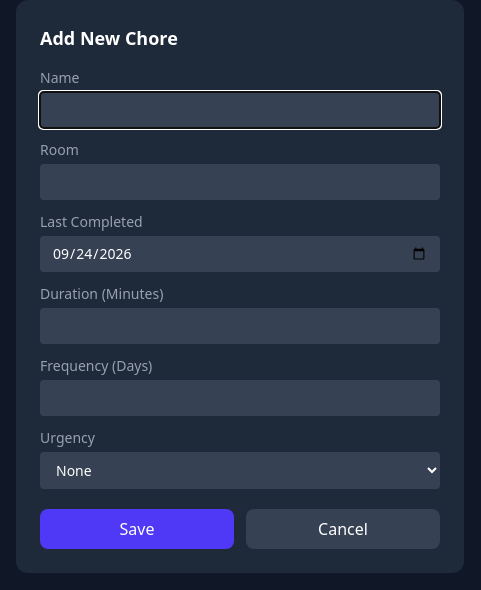
Test: ChoreForm clear-✕ (F14) › Name field shows a clear-✕ once typed and clears only Name on click
Type "Sweep" into the field labelled "Name" at [240, 110], box [40, 92, 440, 128]
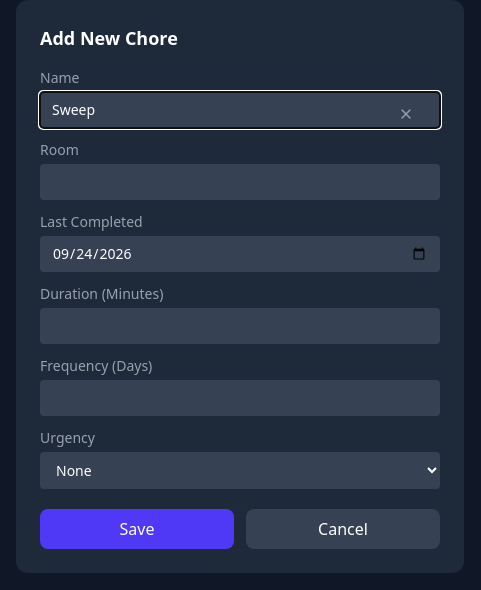
Type "Kitchen" into the field labelled "Room" at [240, 182], box [40, 164, 440, 200]
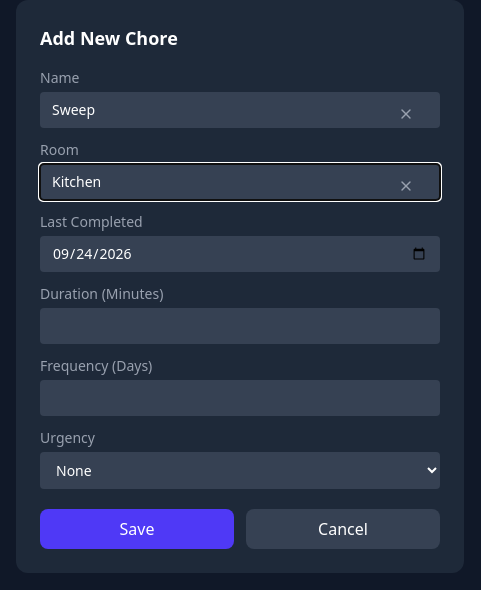
Click the button named "Clear Name" at [406, 114], box [384, 92, 428, 136]
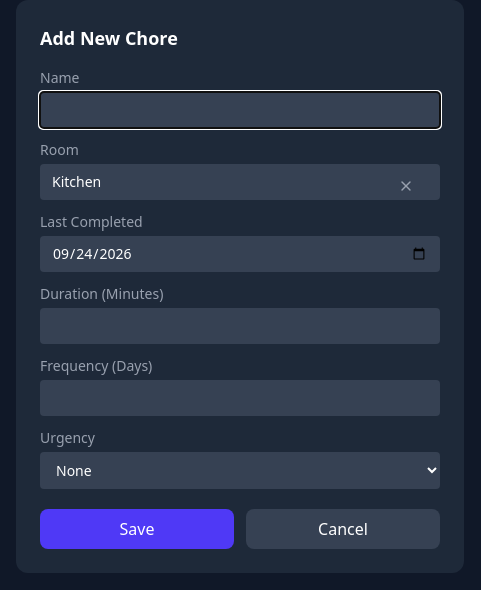
Expected: the field labelled "Name" is empty, [40, 92, 440, 128]
